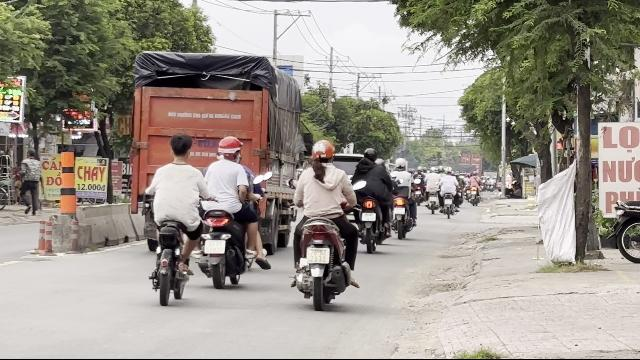helmet: (310, 139, 334, 168), (216, 136, 244, 160)
licenseplate: (306, 248, 330, 264), (205, 240, 225, 254)
motorcyclist: (286, 138, 362, 308), (141, 130, 205, 306), (198, 134, 268, 288)
nohelmet: (168, 132, 194, 160)
